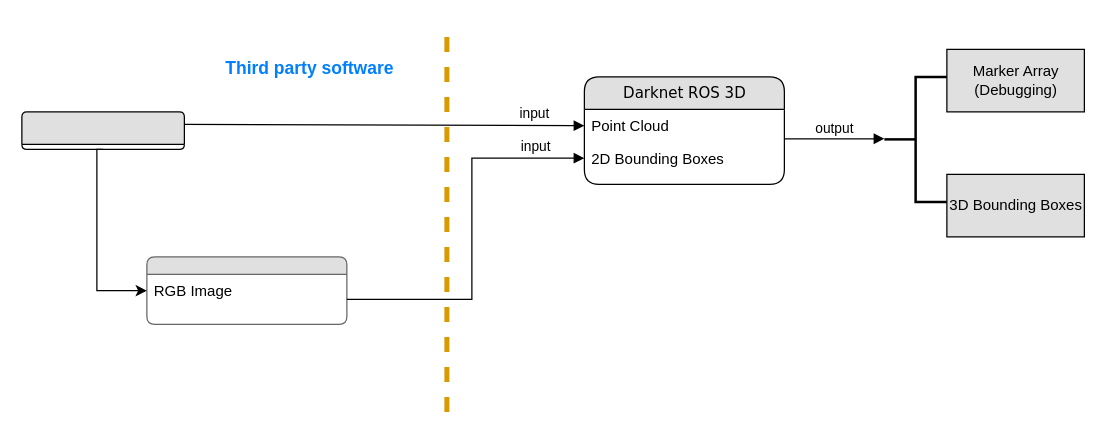
Some shapes in this 1106 by 436 pixel diagram are drawn without their labels. The shapes that lost their labels are listed below. From the top down, each one's box as (x1, y1, x2, y2) in pixels, then its label:
(21, 111, 184, 149): Camera Driver
(146, 256, 347, 324): Darknet ROS
